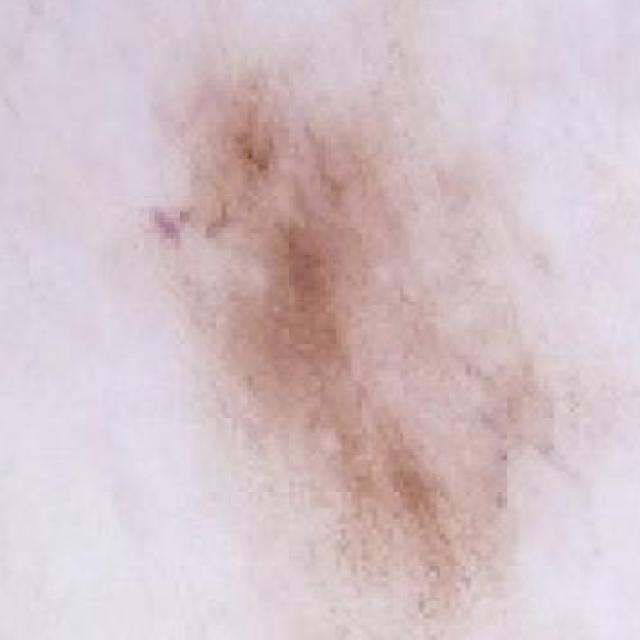BKL: (132, 40, 563, 640)
